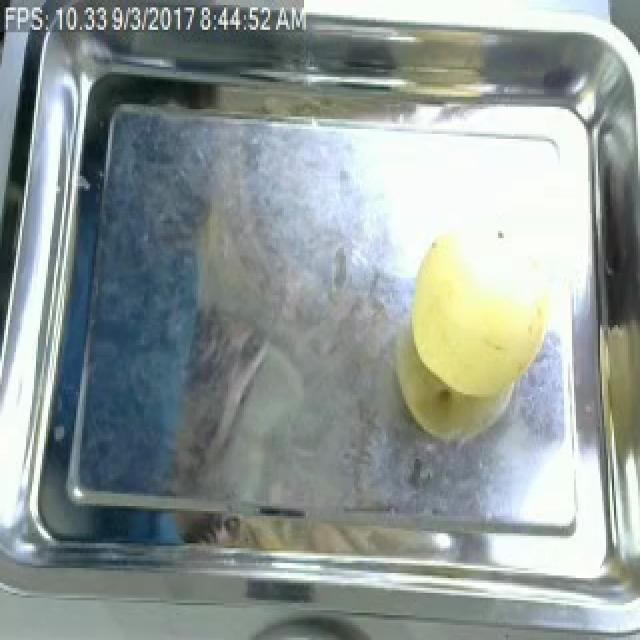Fruit: (398, 218, 564, 414)
